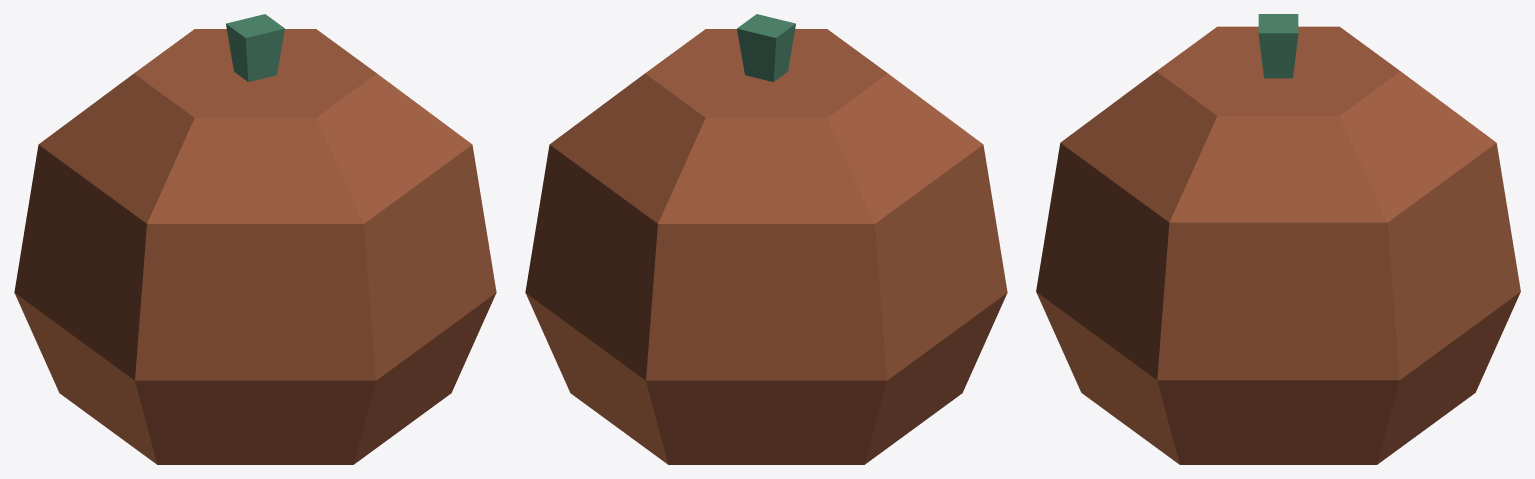
File: naturePack_170.obj
3 views of the same model, side by side, from view 1: azimuth 30°, elevation 25°; view 2: azimuth 150°, elevation 25°; view 3: azimuth 270°, elevation 25° (orthographic).
Parts seen in each view (by area): view 1: Mesh1_Group1_Model.083; view 2: Mesh1_Group1_Model.083; view 3: Mesh1_Group1_Model.083.
Part boxes in pixels (box(x1,y1,x2,y2)): Mesh1_Group1_Model.083: box(14, 14, 496, 464); Mesh1_Group1_Model.083: box(525, 14, 1007, 464); Mesh1_Group1_Model.083: box(1036, 14, 1520, 464).
Size of the model in its own units: 0.6391 by 0.62 by 0.738.
